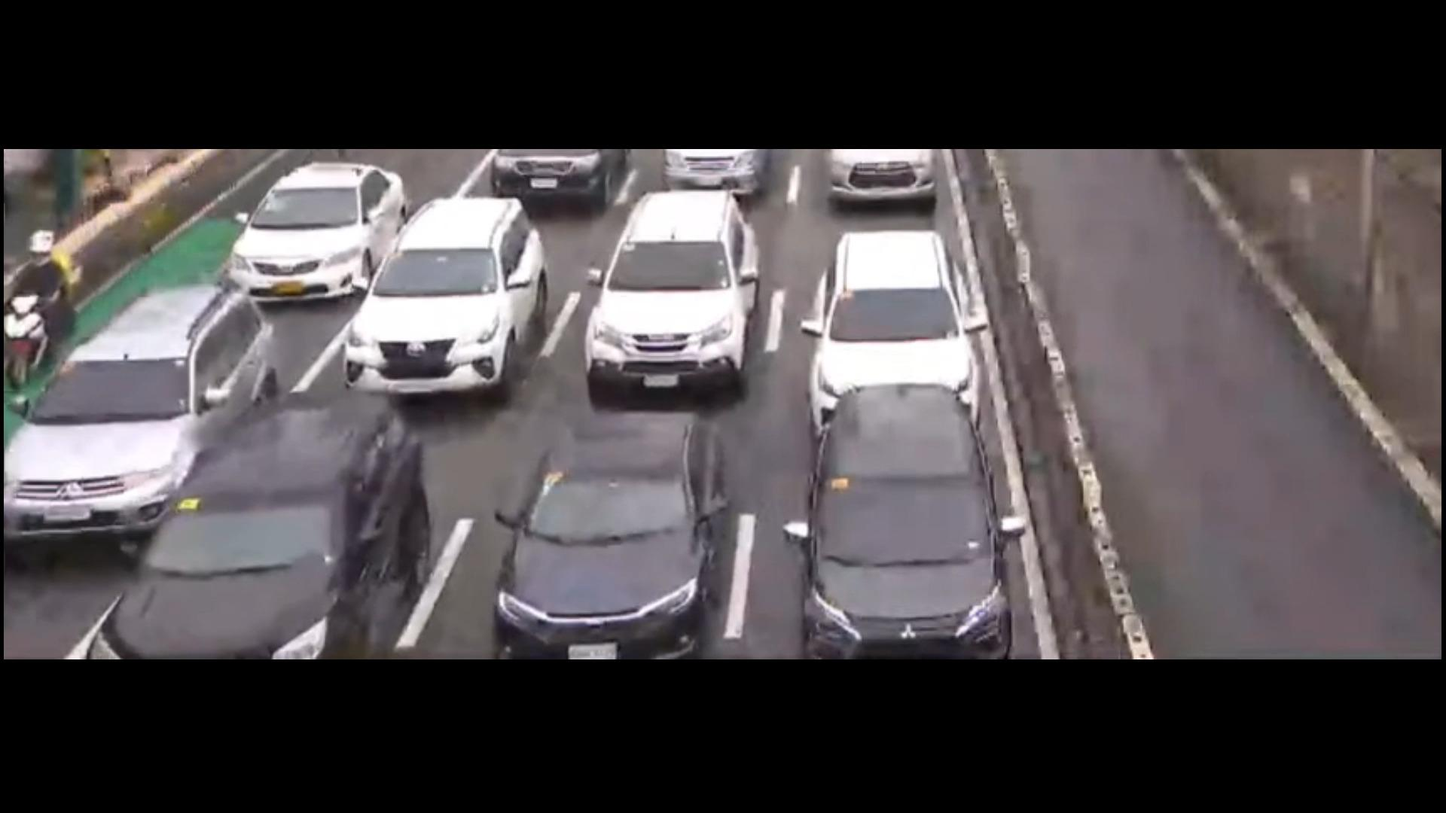Motorcycle: (0, 221, 64, 390)
SUV: (59, 381, 475, 669), (785, 375, 1045, 665), (0, 275, 273, 549), (771, 181, 1000, 417), (550, 185, 774, 424), (333, 194, 548, 408)
Sedan: (483, 394, 738, 659), (223, 149, 407, 314)
